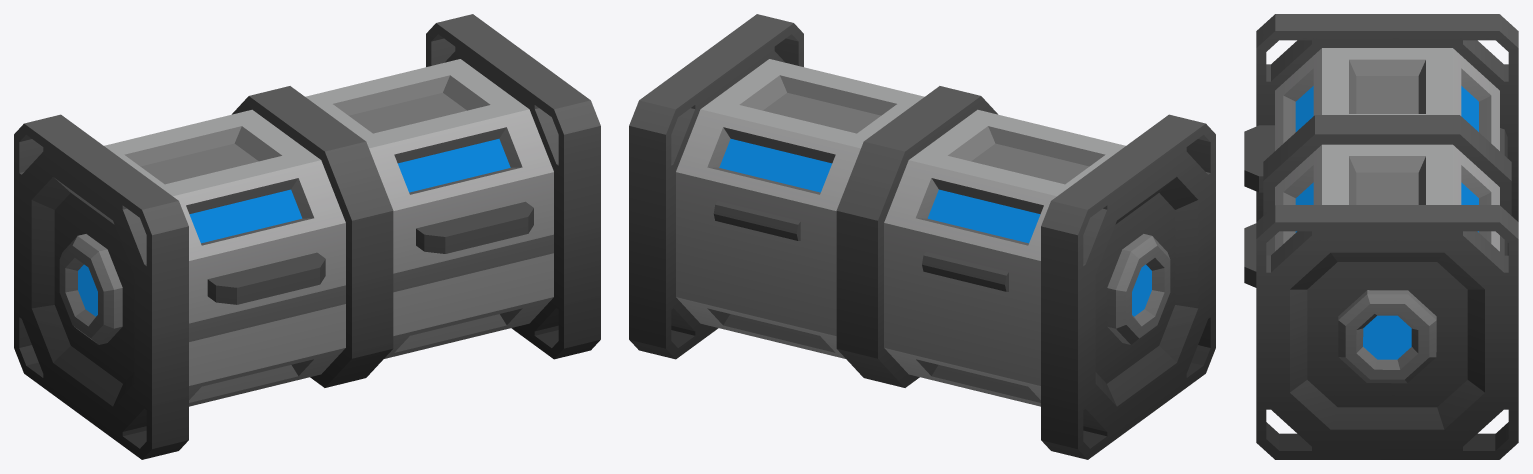
The model's file is Crate_008.glb.
3 views of the same model, side by side, from view 1: azimuth 30°, elevation 25°; view 2: azimuth 150°, elevation 25°; view 3: azimuth 270°, elevation 25° (orthographic). The views are drawn at different scales.
Visible parts, largest first — view 1: Crate_008; view 2: Crate_008; view 3: Crate_008.
Part boxes in pixels (x1,y1,x2,y2): Crate_008: (14, 14, 600, 459); Crate_008: (629, 14, 1215, 459); Crate_008: (1244, 14, 1518, 459).
Size of the model in its own units: 1.26 by 0.6658 by 0.6961.
2 materials, 2 textured.
